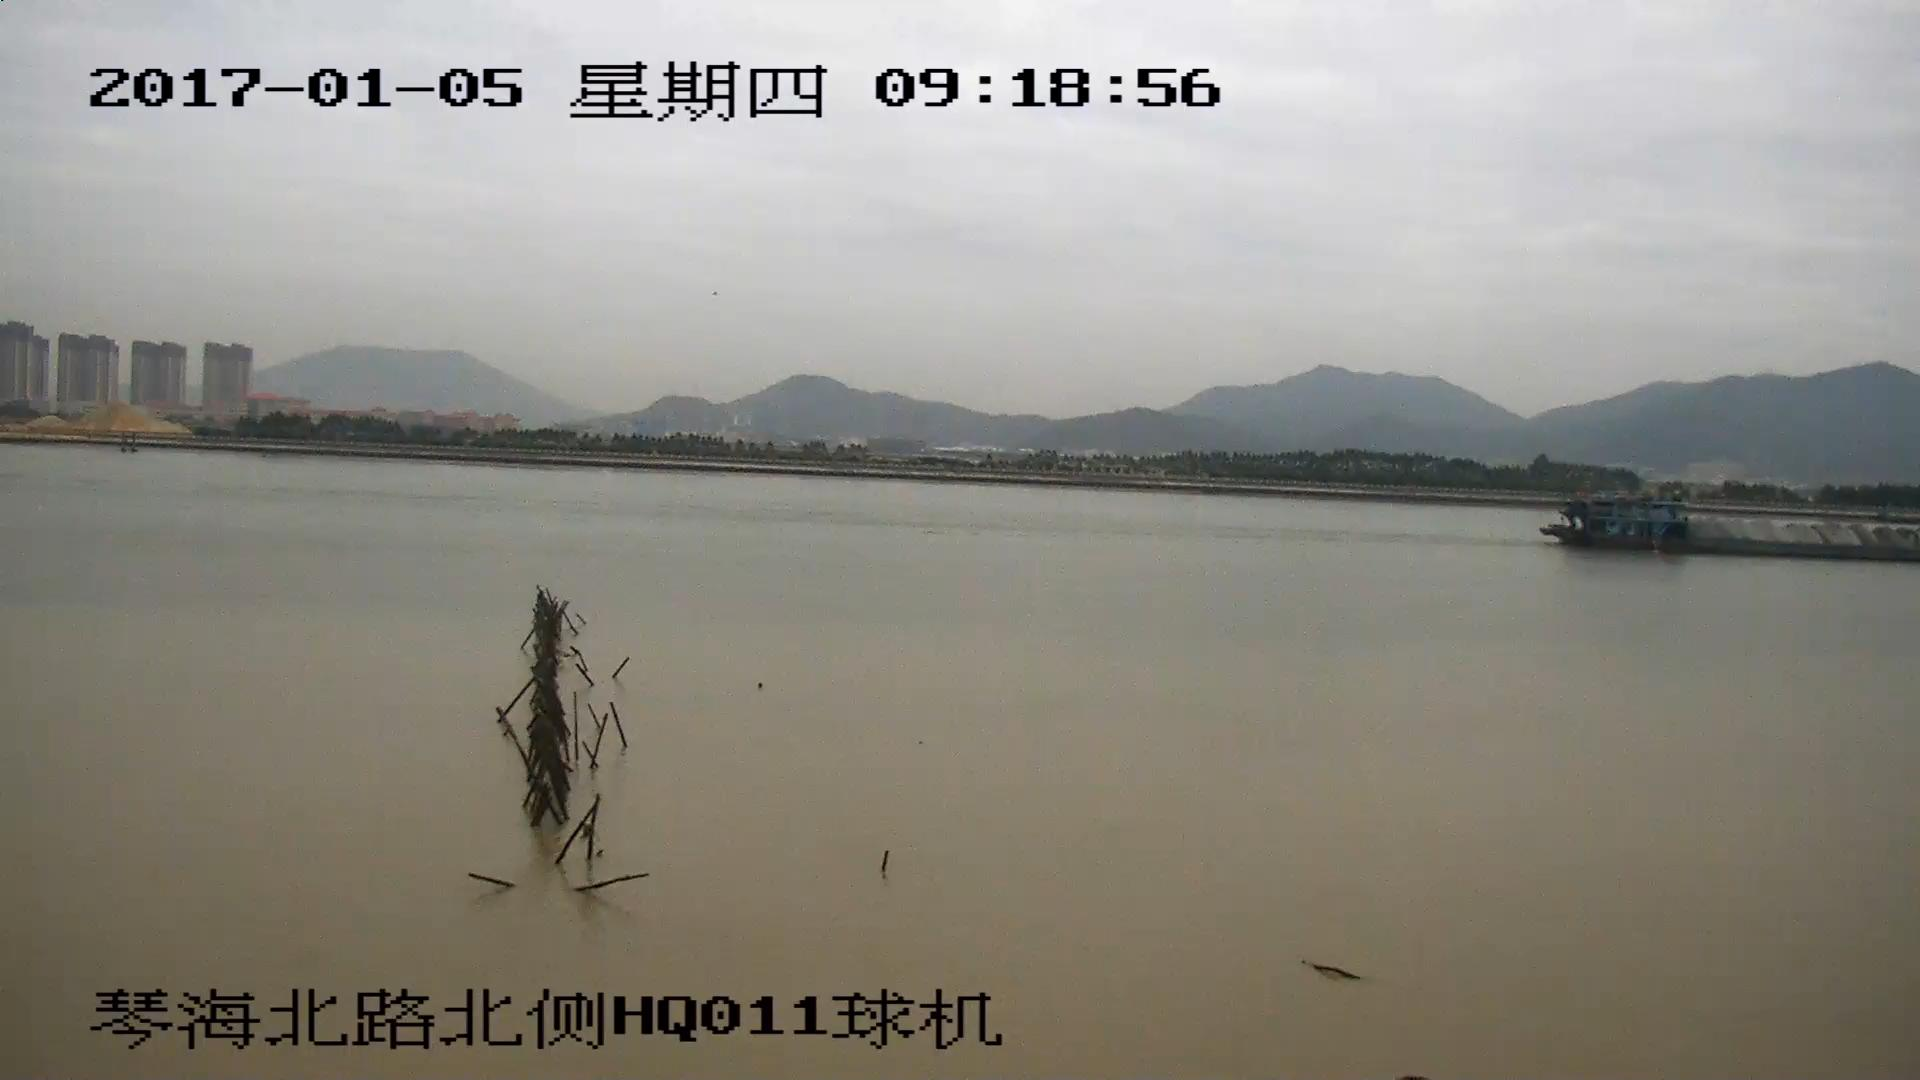ore carrier: (1546, 500, 1920, 560)
